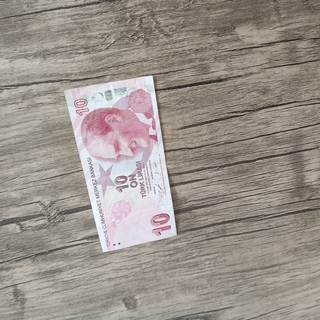10TLFront: (63, 73, 178, 253)
